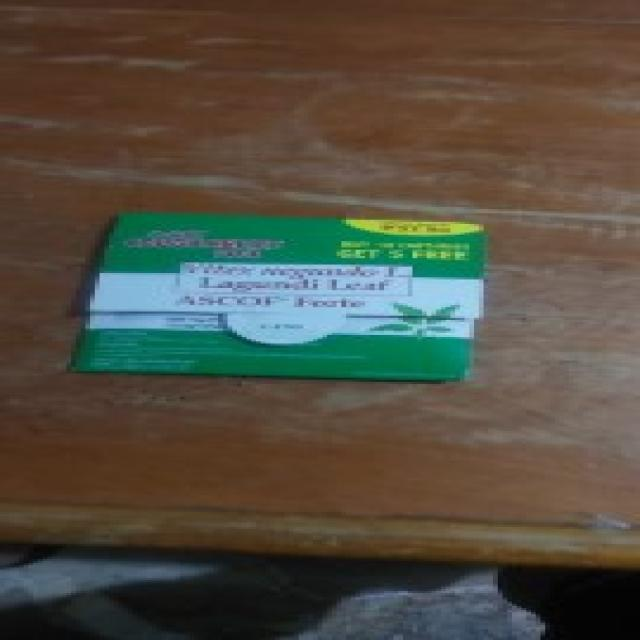Cacat: (99, 219, 479, 373)
